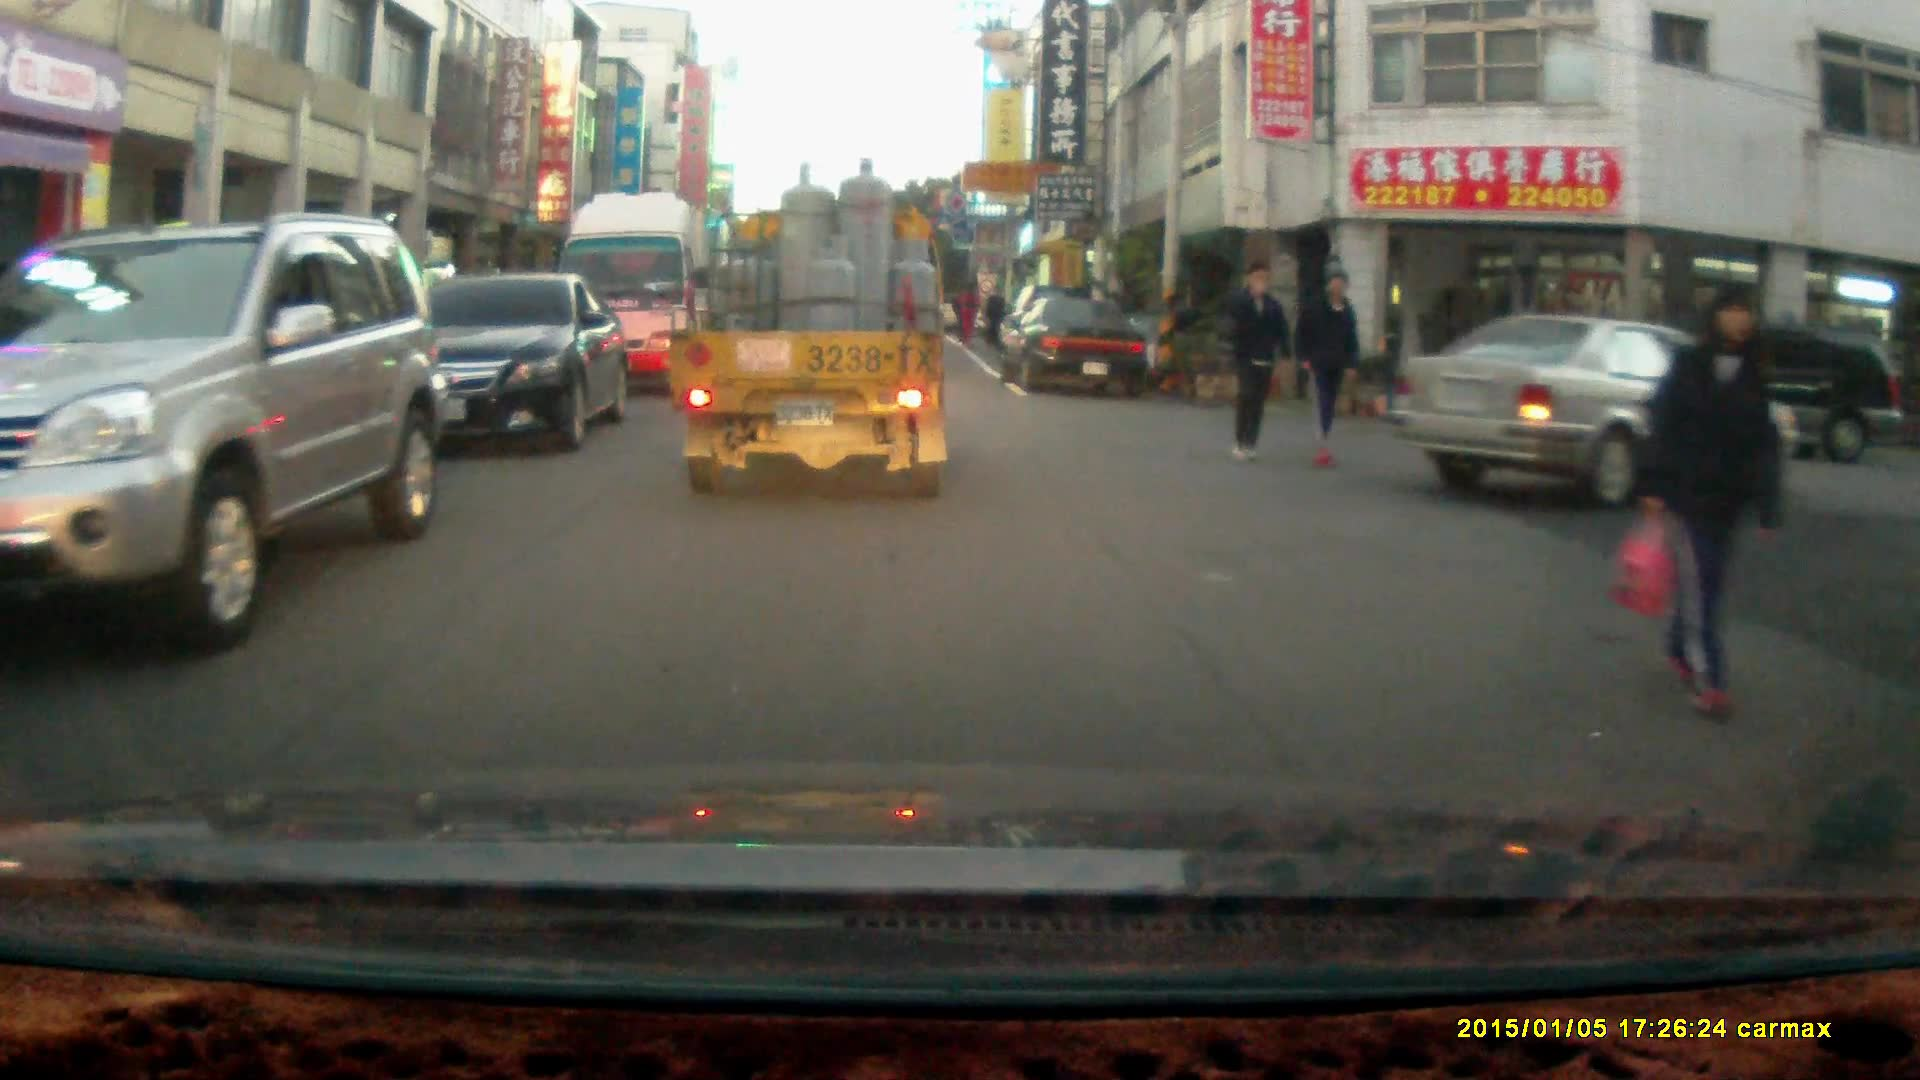pedestrian: (1642, 283, 1783, 717), (1293, 266, 1362, 470), (1223, 256, 1281, 459), (980, 279, 1007, 349), (953, 281, 978, 348)
vehicle: (1, 211, 443, 654), (669, 158, 951, 507), (1389, 312, 1798, 517), (353, 276, 630, 462), (553, 188, 731, 401), (992, 295, 1150, 400)
